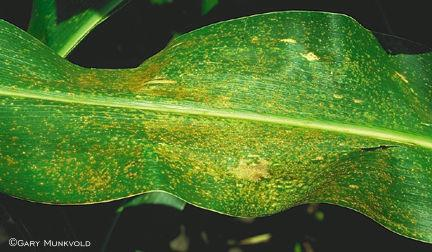Corn rust leaf: (1, 12, 432, 226)
